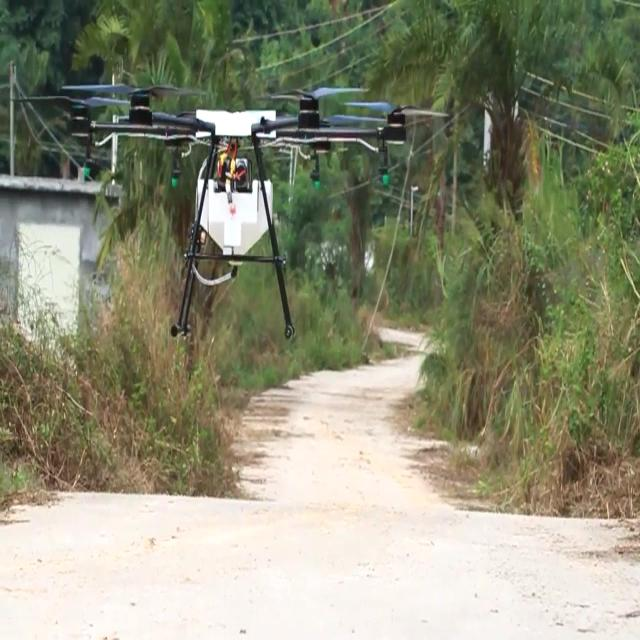drone: (62, 80, 450, 340)
